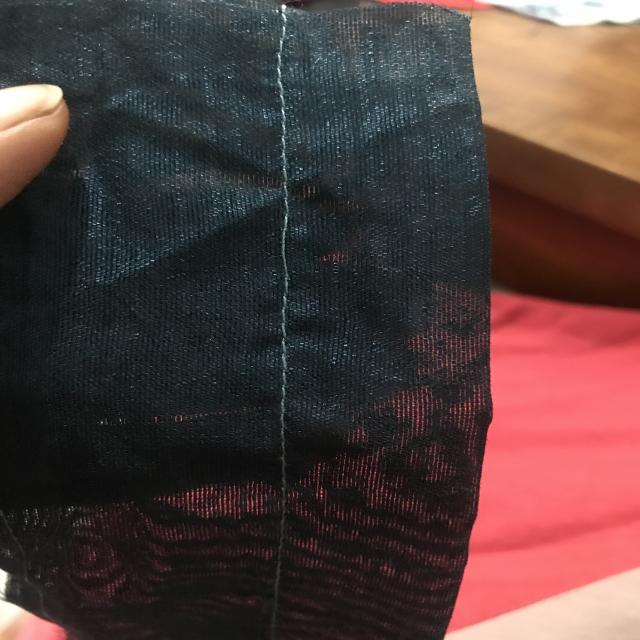good: (260, 51, 298, 155), (271, 318, 298, 454)
skip: (266, 196, 309, 288)
